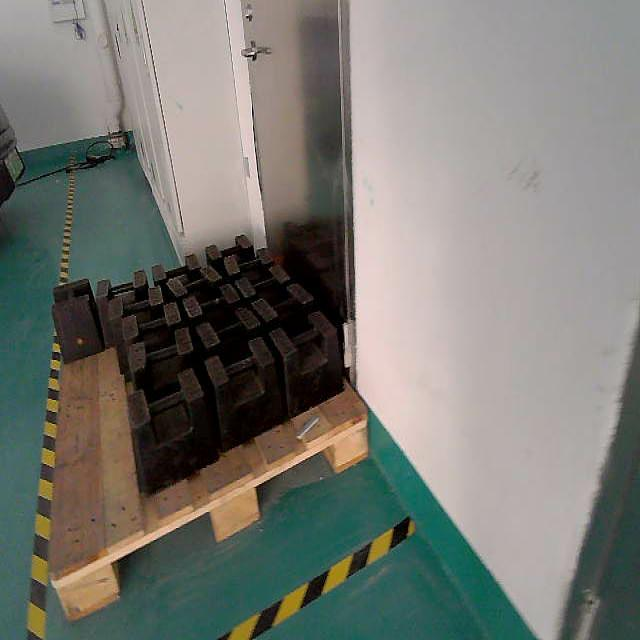euro: (28, 236, 366, 639)
